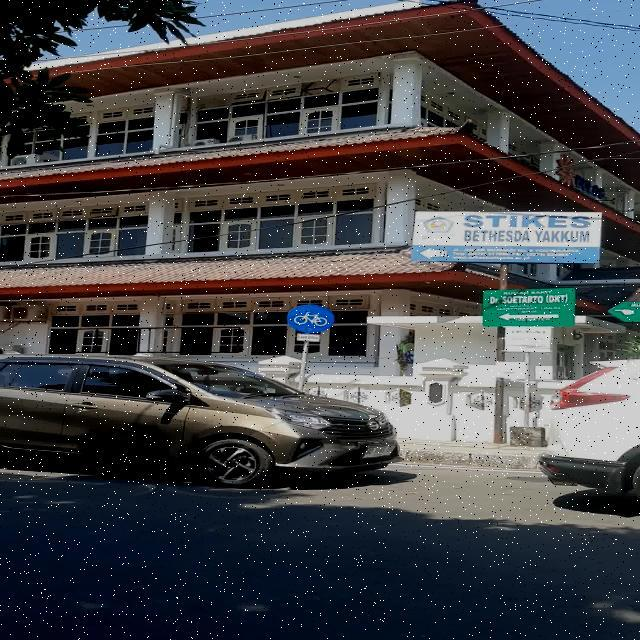Jalur Sepeda: (288, 304, 336, 333)
